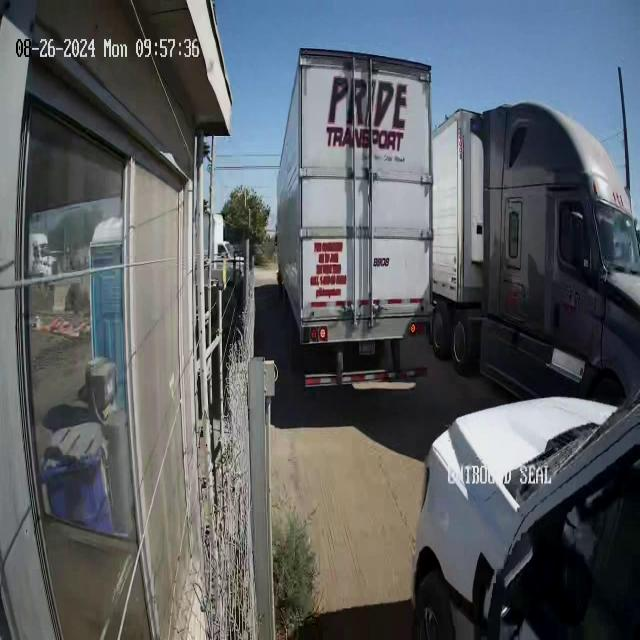TRUCK_CONTAINER: (436, 108, 640, 382), (273, 49, 435, 389)
